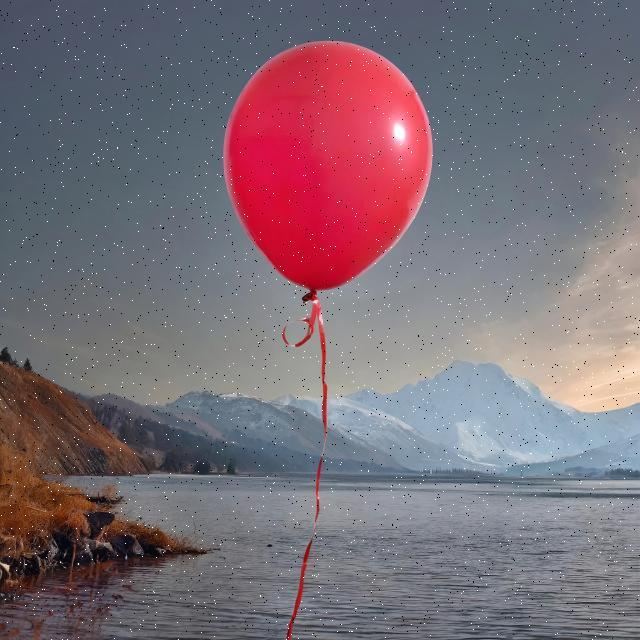red: (222, 39, 433, 300)
